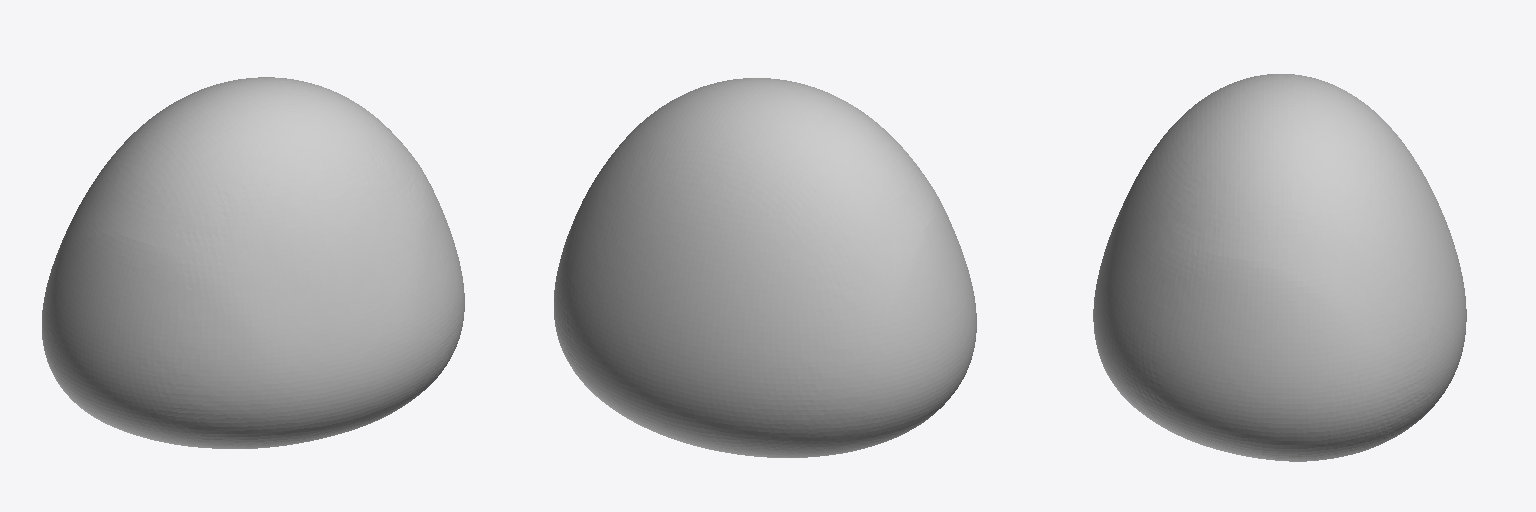
File: SubTool-0-10233600.OBJ
The picture shows the model from 3 angles: view 1: azimuth 30°, elevation 25°; view 2: azimuth 150°, elevation 25°; view 3: azimuth 270°, elevation 25°; orthographic projection.
Visible parts, largest first — view 1: ZBrush_defualt_group; view 2: ZBrush_defualt_group; view 3: ZBrush_defualt_group.
Part boxes in pixels (bbox=[...]): ZBrush_defualt_group: bbox=[42, 77, 464, 448]; ZBrush_defualt_group: bbox=[554, 78, 976, 457]; ZBrush_defualt_group: bbox=[1093, 74, 1466, 461].
Size of the model in its own units: 1.54 by 1.29 by 1.32.